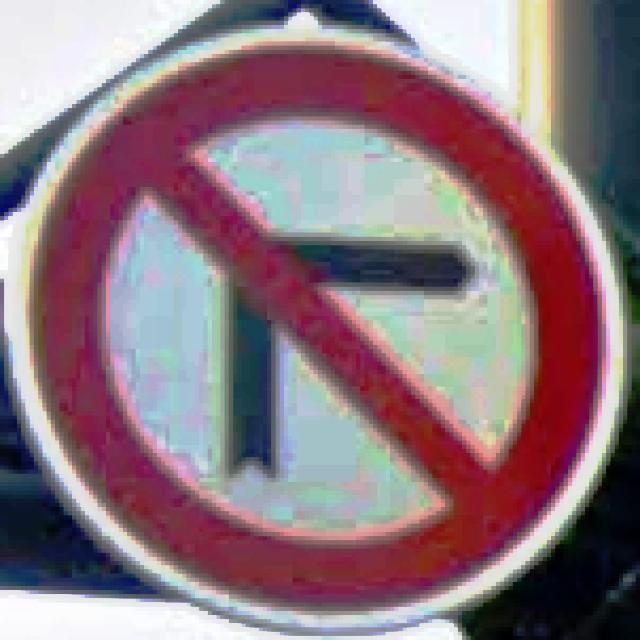noturnright: (0, 21, 627, 636)
